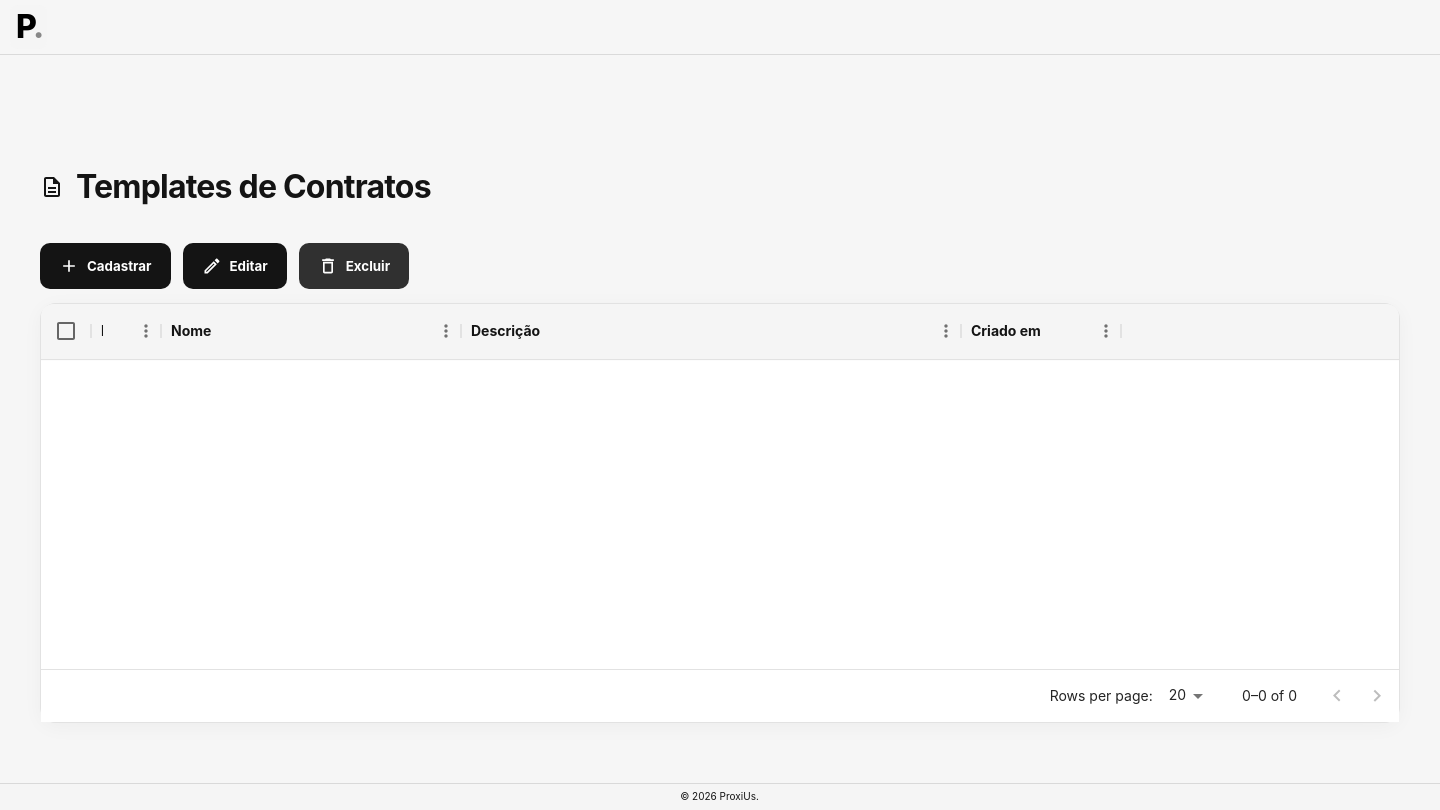
it: mantém o formulário de cadastro claro em /templatesContrato
This screenshot has width=1440, height=810.
Click the button "Cadastrar".
click(105, 266)  # box x1=40 y1=243 x2=170 y2=289
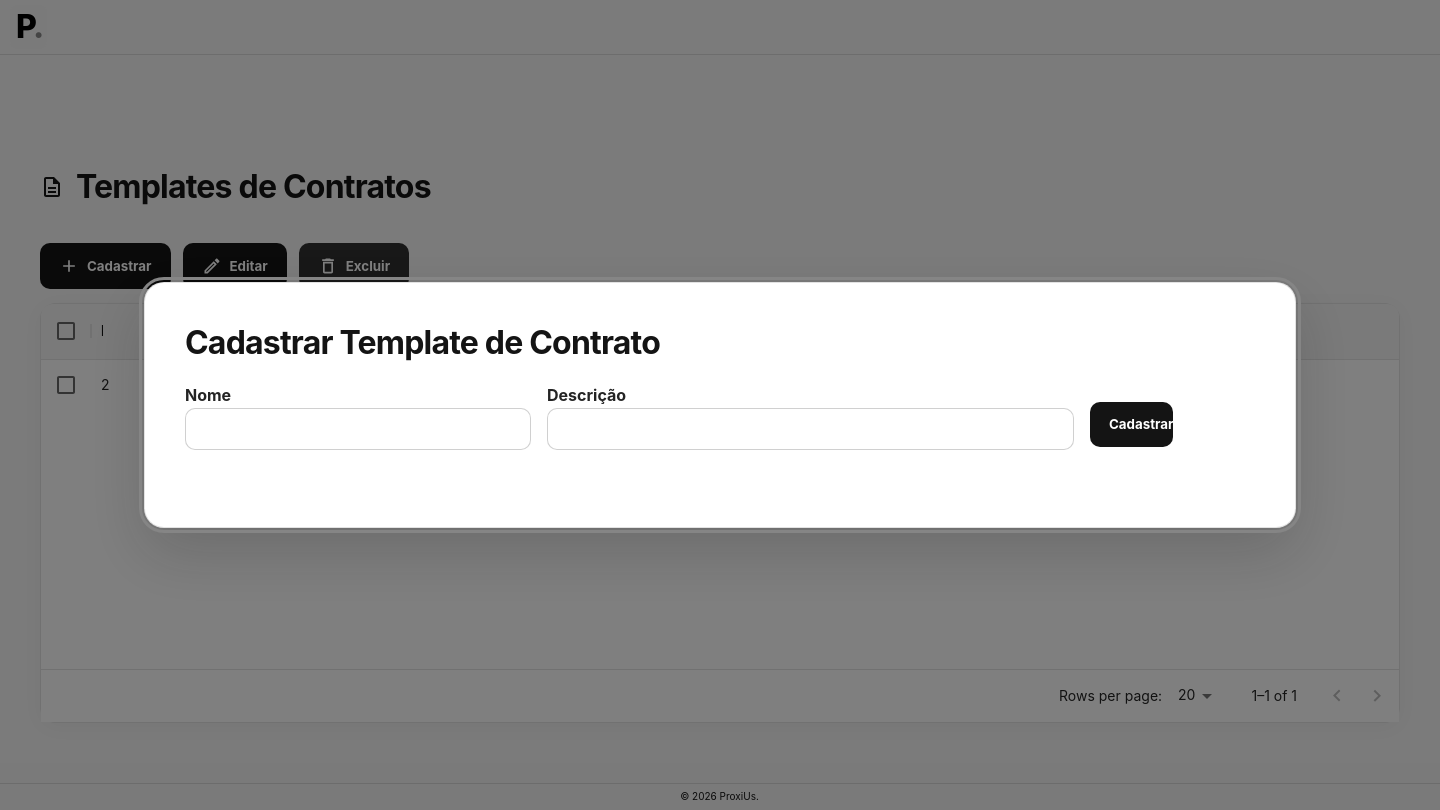
Expected: the heading "Cadastrar Template de Contrato" is shown, x1=185 y1=323 x2=660 y2=362
